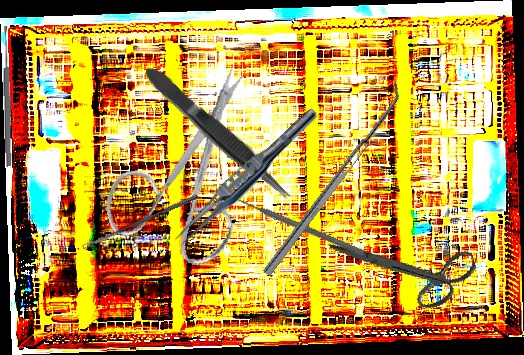Iris Scissors: (81, 63, 283, 283), (328, 202, 485, 333)
Pusher: (227, 191, 366, 258)
Spatula Surgical: (255, 81, 409, 277)
Surgical Spoon: (81, 193, 199, 250), (2, 25, 13, 167)
Tissue Forceps: (140, 59, 298, 208), (169, 101, 322, 254)
